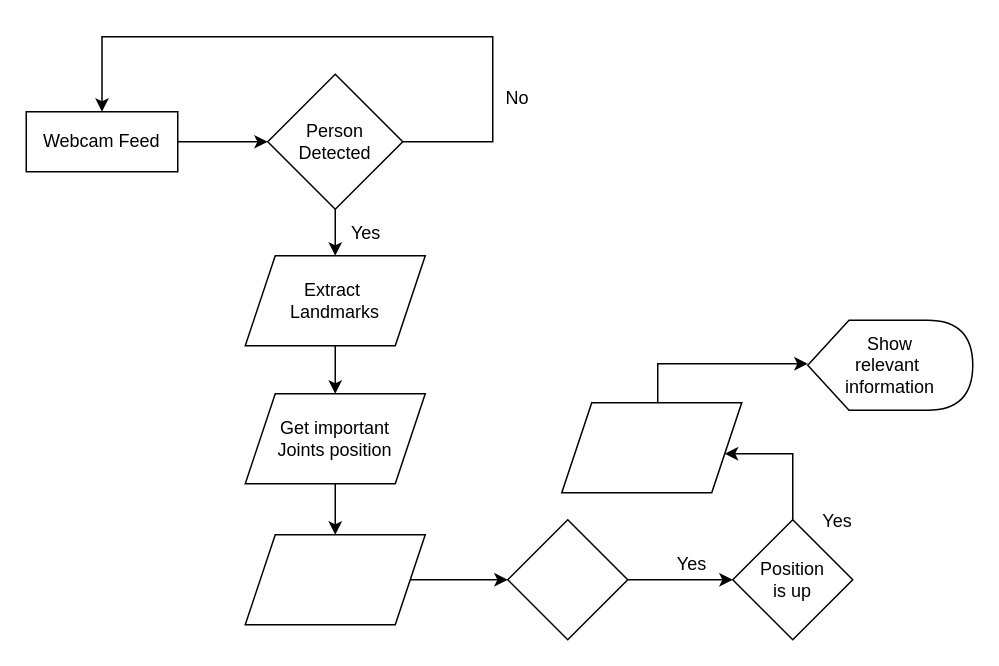
This 999x666 diagram has some shape labels left out. Each missing label, with the box of its shape:
Calculate Angles: (244, 533, 425, 625)
Increment Counter: (560, 401, 742, 493)
Position is down: (506, 518, 628, 640)
